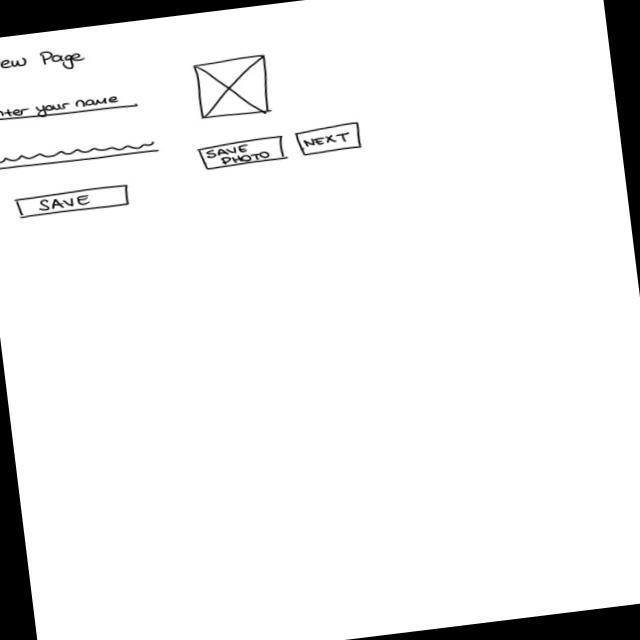button: (14, 184, 133, 222), (197, 135, 288, 174), (295, 122, 364, 159)
image: (191, 53, 275, 123)
input: (1, 135, 162, 174), (1, 88, 141, 126)
label: (1, 45, 88, 81)
